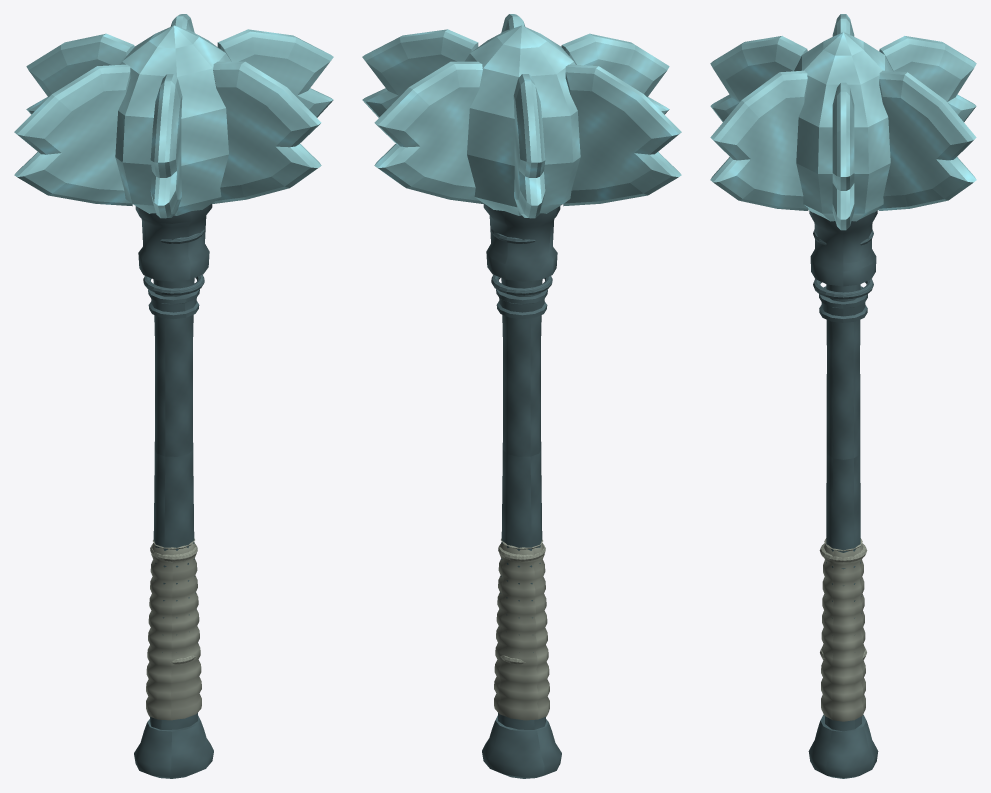
File: underworld-weapon-flowstone-maul.glb
3 views of the same model, side by side, from view 1: azimuth 30°, elevation 25°; view 2: azimuth 150°, elevation 25°; view 3: azimuth 270°, elevation 25° (orthographic).
Visible parts, largest first — view 1: head-core, striker-3, striker-5, haft, grip-wrap, neck, striker-0, striker-4, striker-2, pommel, flowstone/socket-0; view 2: head-core, striker-3, striker-1, haft, grip-wrap, neck, striker-0, striker-2, striker-4, pommel, flowstone/socket-0; view 3: head-core, striker-1, striker-5, haft, grip-wrap, neck, striker-2, striker-4, striker-0, pommel, flowstone/socket-0.
Part boxes in pixels (x1,y1,x2,y2): head-core: (115,25,231,215); striker-3: (14,64,132,206); striker-5: (212,61,321,203); haft: (150,278,197,729); grip-wrap: (146,538,201,720); neck: (135,203,212,319); striker-0: (217,29,333,117); striker-4: (150,74,182,218); striker-2: (26,33,134,114); pommel: (134,715,213,778); flowstone/socket-0: (143,274,204,295); head-core: (464,25,580,215); striker-3: (563,64,681,206); striker-1: (374,61,483,203); haft: (498,278,545,729); grip-wrap: (494,538,549,720); neck: (483,203,560,319); striker-0: (362,29,478,117); striker-2: (513,74,545,218); striker-4: (561,33,669,114); pommel: (482,715,561,778); flowstone/socket-0: (491,274,552,295); head-core: (794,32,892,221); striker-1: (878,70,976,210); striker-5: (710,70,808,210); haft: (825,284,861,731); grip-wrap: (821,538,865,721); neck: (809,210,877,322); striker-2: (879,36,976,121); striker-4: (710,36,807,121); striker-0: (832,82,854,230); pommel: (808,714,878,778); flowstone/socket-0: (813,279,873,299).
Size of the model in its own units: 0.5796 by 1.3 by 0.4266.
Materials: 3 (3 with a texture image).
